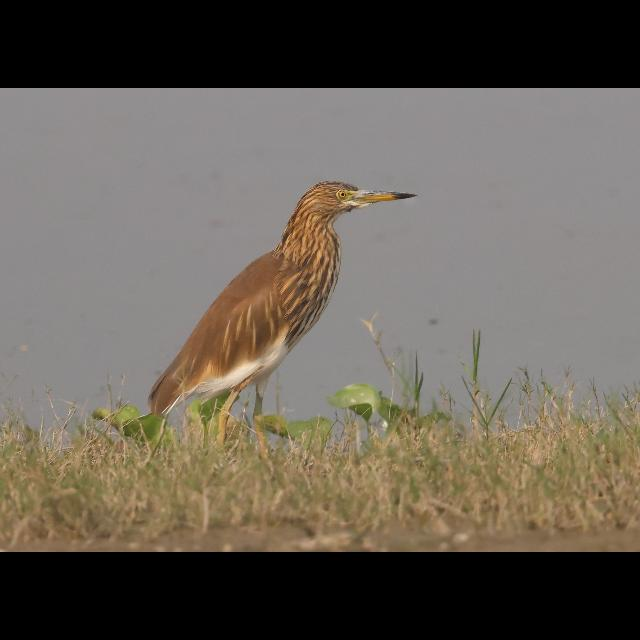heron: (150, 181, 418, 419)
